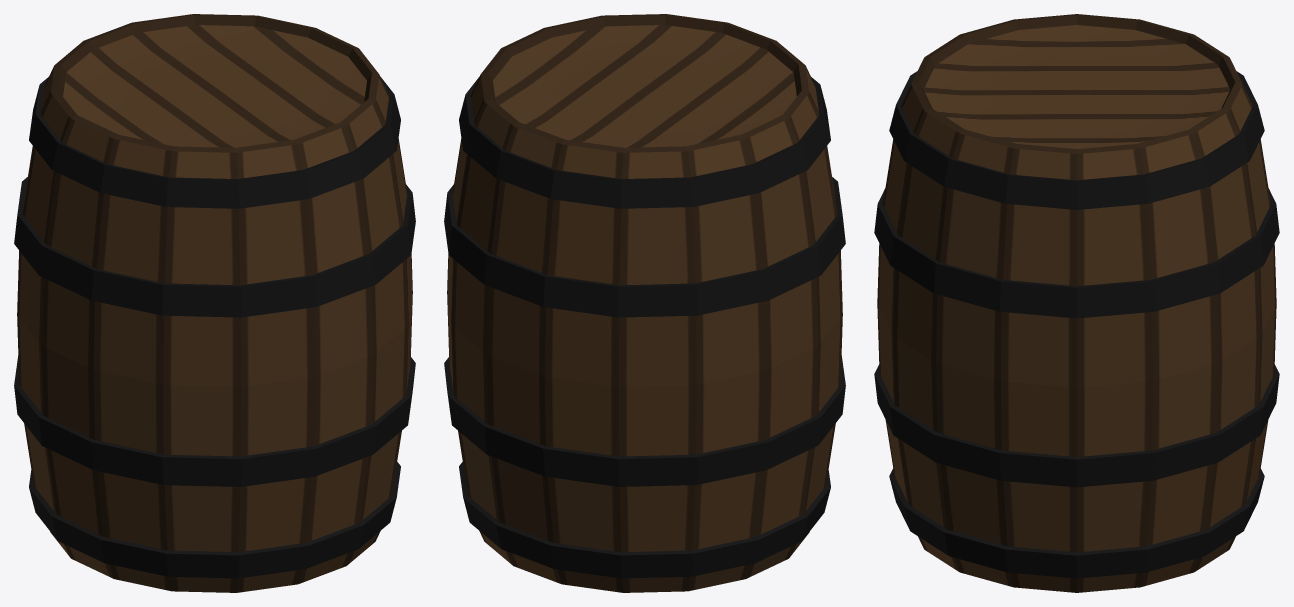
The model's file is barrelmonster.fbx.
3 views of the same model, side by side, from view 1: azimuth 30°, elevation 25°; view 2: azimuth 150°, elevation 25°; view 3: azimuth 270°, elevation 25° (orthographic).
Parts seen in each view (by area): view 1: barrel, barrel_cap; view 2: barrel, barrel_cap; view 3: barrel, barrel_cap.
Boxes of the visible parts, bbox=[...] form: barrel: bbox=[14, 14, 415, 592]; barrel_cap: bbox=[63, 25, 366, 147]; barrel: bbox=[444, 14, 845, 592]; barrel_cap: bbox=[493, 25, 796, 147]; barrel: bbox=[874, 14, 1279, 592]; barrel_cap: bbox=[923, 25, 1230, 148].
Size of the model in its own units: 4.18 by 5.07 by 4.18.
